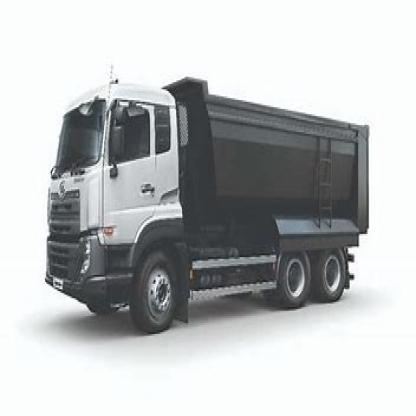dump_truck: (39, 70, 372, 321)
